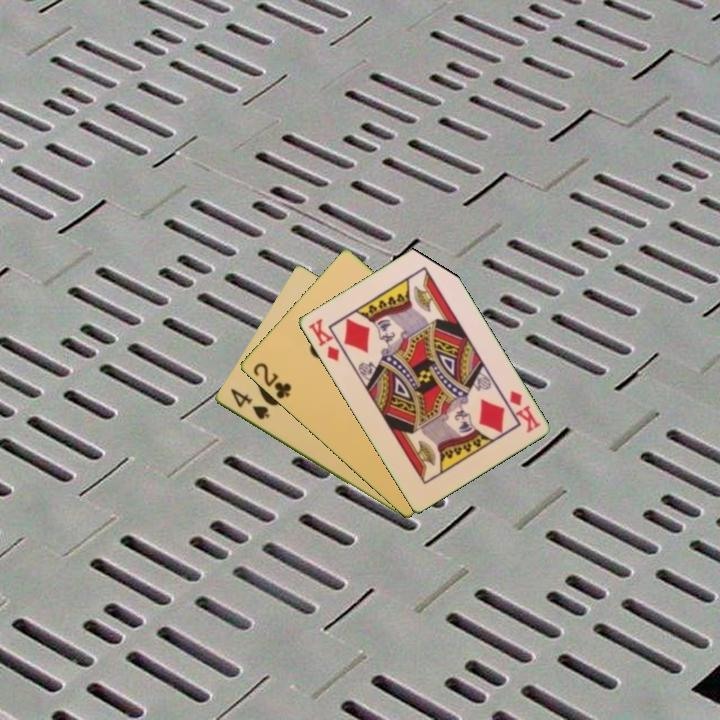2c: (249, 359, 294, 402)
4s: (226, 385, 272, 423)
Kd: (304, 314, 342, 364), (506, 387, 543, 436)
